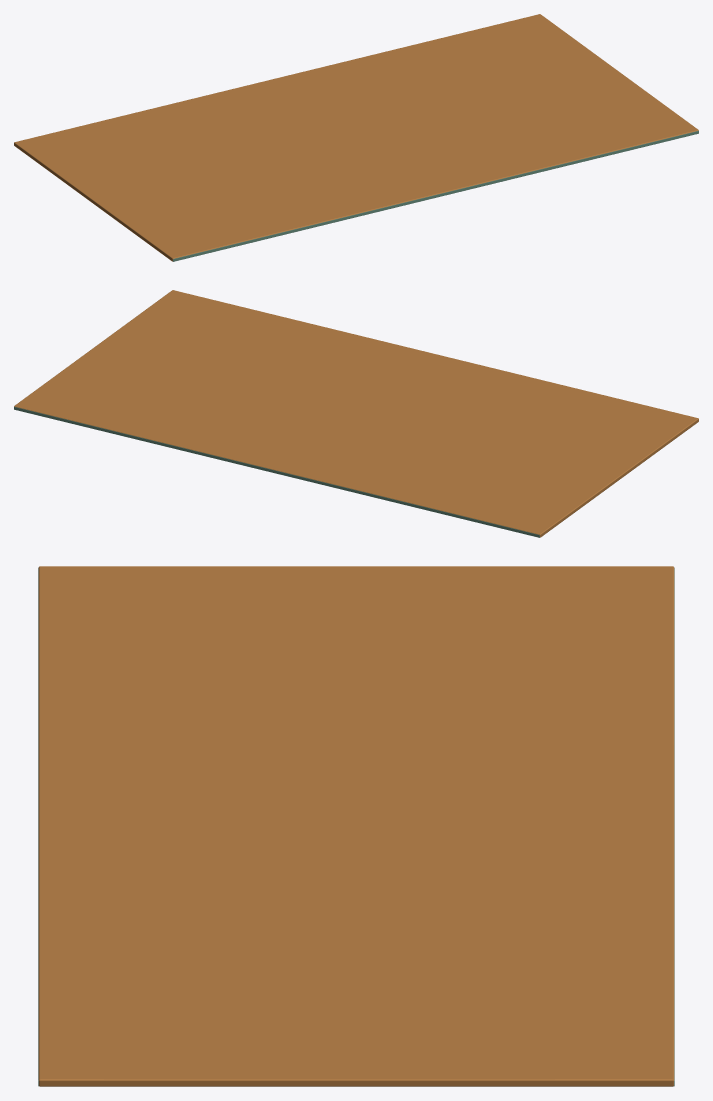
Rendered from cabinet-low-shelf-light.glb.
The picture shows the model from 3 angles, top to bottom: view 1: azimuth 30°, elevation 25°; view 2: azimuth 150°, elevation 25°; view 3: azimuth 270°, elevation 25°; orthographic projection. The views are drawn at different scales.
Parts seen in each view (by area): view 1: wood, sage; view 2: wood, sage; view 3: wood, sage.
Boxes of the visible parts, box(x1,y1,x2,y2) form: wood: box(14, 14, 698, 261); sage: box(173, 130, 698, 261); wood: box(14, 290, 698, 537); sage: box(14, 406, 539, 537); wood: box(38, 566, 674, 1086); sage: box(38, 568, 674, 1086).
Bounding box in the file's own units: 44 × 0.3 × 23.03.
